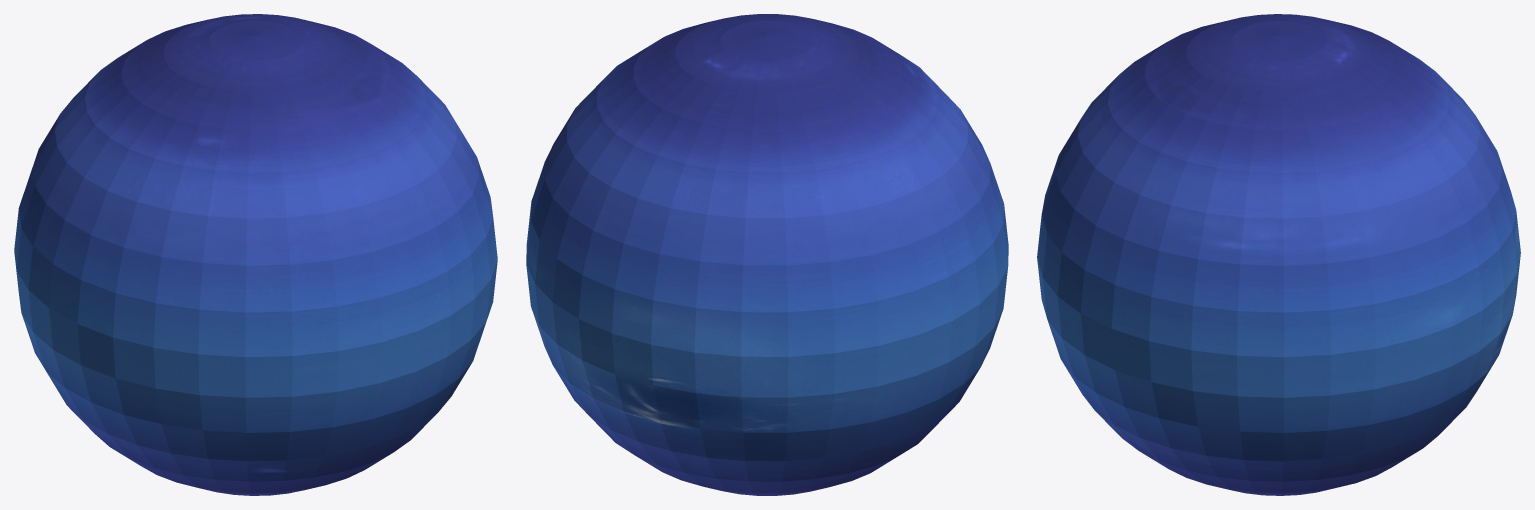
The model's file is neptune.obj.
3 views of the same model, side by side, from view 1: azimuth 30°, elevation 25°; view 2: azimuth 150°, elevation 25°; view 3: azimuth 270°, elevation 25° (orthographic).
Visible parts, largest first — view 1: Sphere; view 2: Sphere; view 3: Sphere.
Part boxes in pixels (x1,y1,x2,y2): Sphere: (14,14,497,495); Sphere: (526,14,1008,495); Sphere: (1037,14,1520,495).
Bounding box in the file's own units: 2 × 2 × 2.
Materials: 1 (1 with a texture image).
